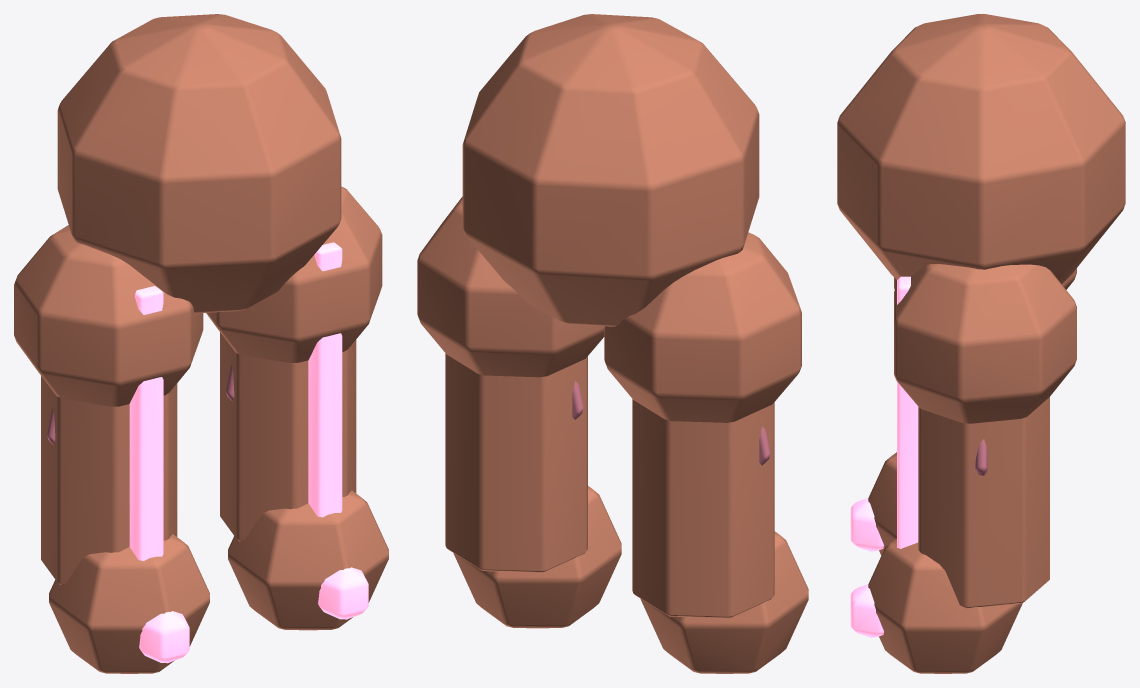
File: pith_sinew_marrow_legs.glb
The picture shows the model from 3 angles, left to right: view 1: azimuth 30°, elevation 25°; view 2: azimuth 150°, elevation 25°; view 3: azimuth 270°, elevation 25°; orthographic projection. The views are drawn at different scales.
Visible parts, largest first — view 1: pith_sinew_marrow_legs; view 2: pith_sinew_marrow_legs; view 3: pith_sinew_marrow_legs.
Boxes of the visible parts, bbox=[...] form: pith_sinew_marrow_legs: bbox=[14, 14, 388, 673]; pith_sinew_marrow_legs: bbox=[417, 14, 808, 673]; pith_sinew_marrow_legs: bbox=[837, 14, 1125, 673].
Size of the model in its own units: 0.614 by 1.04 by 0.4519.
1 material, 1 textured.
